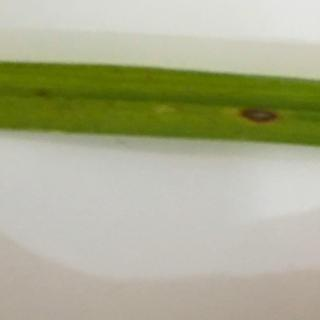Blast: (222, 85, 300, 142)
